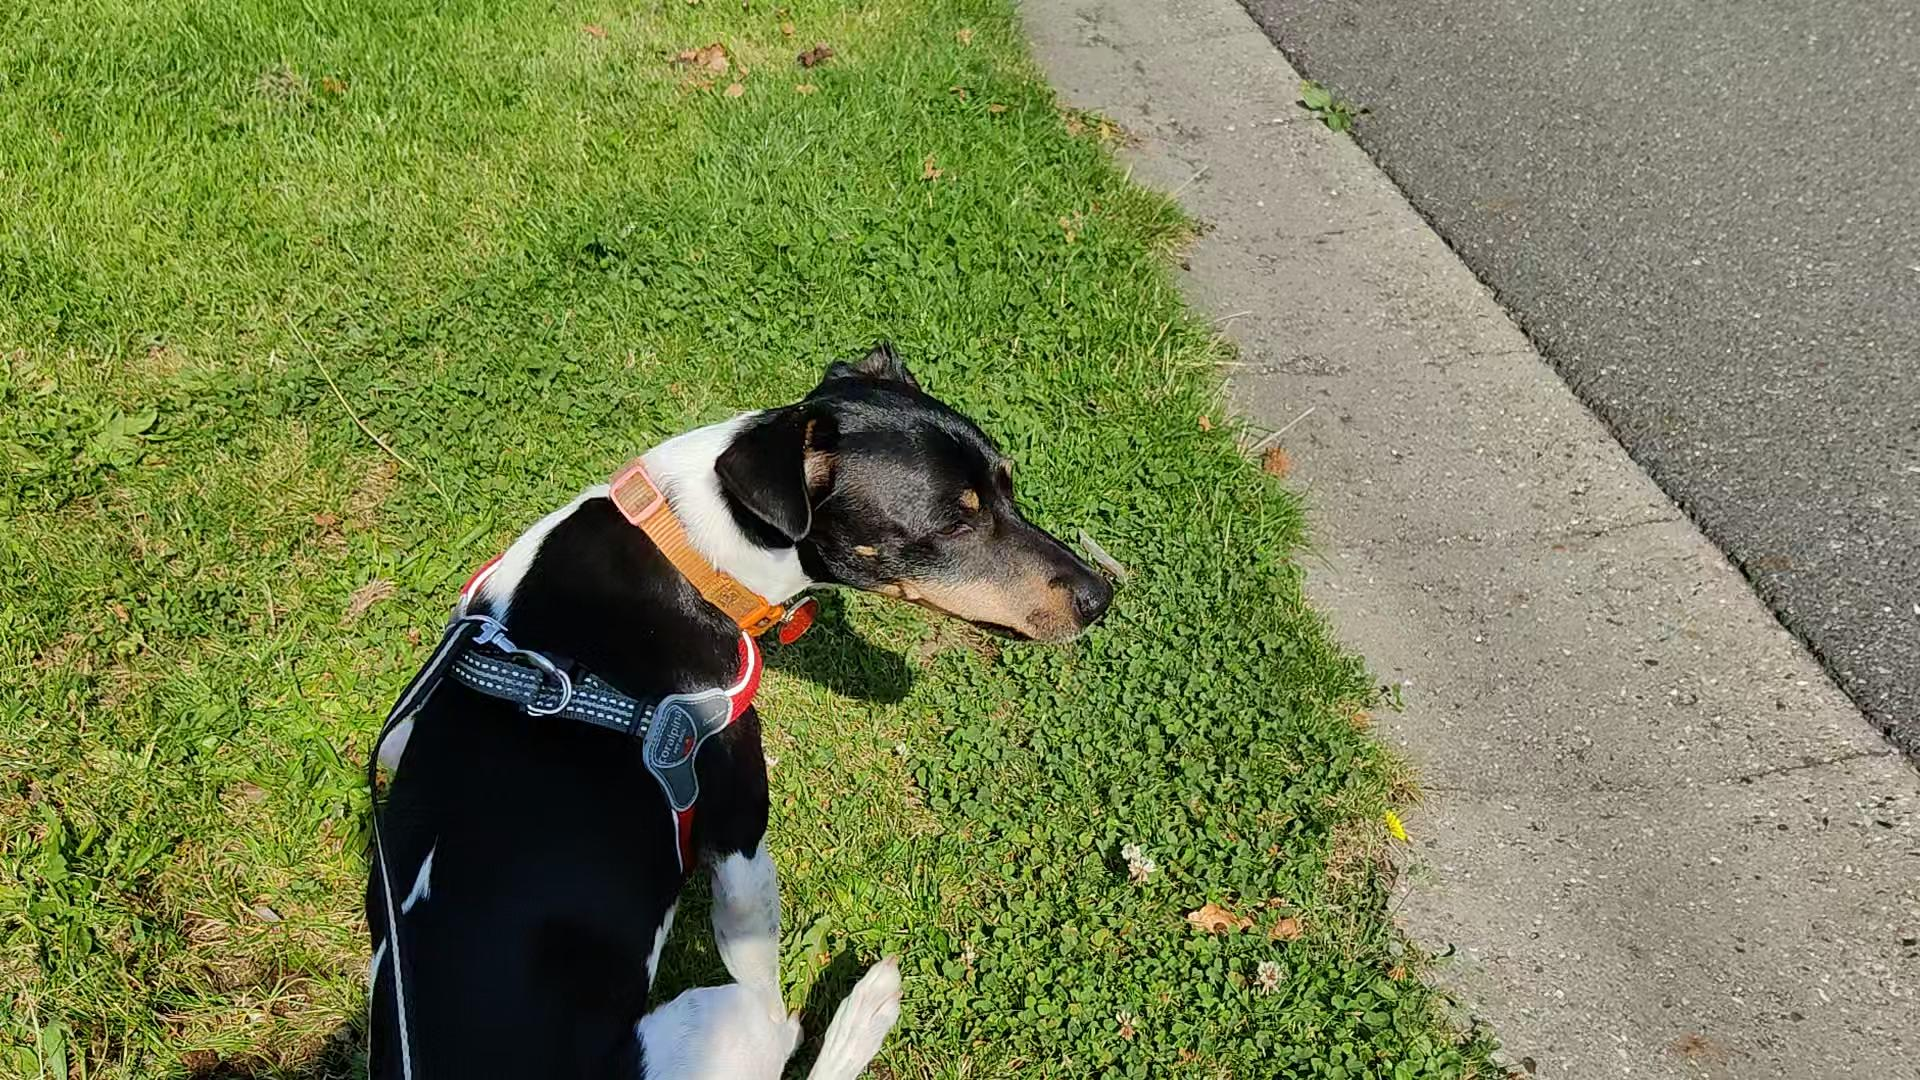Dog: (349, 336, 1120, 1079)
